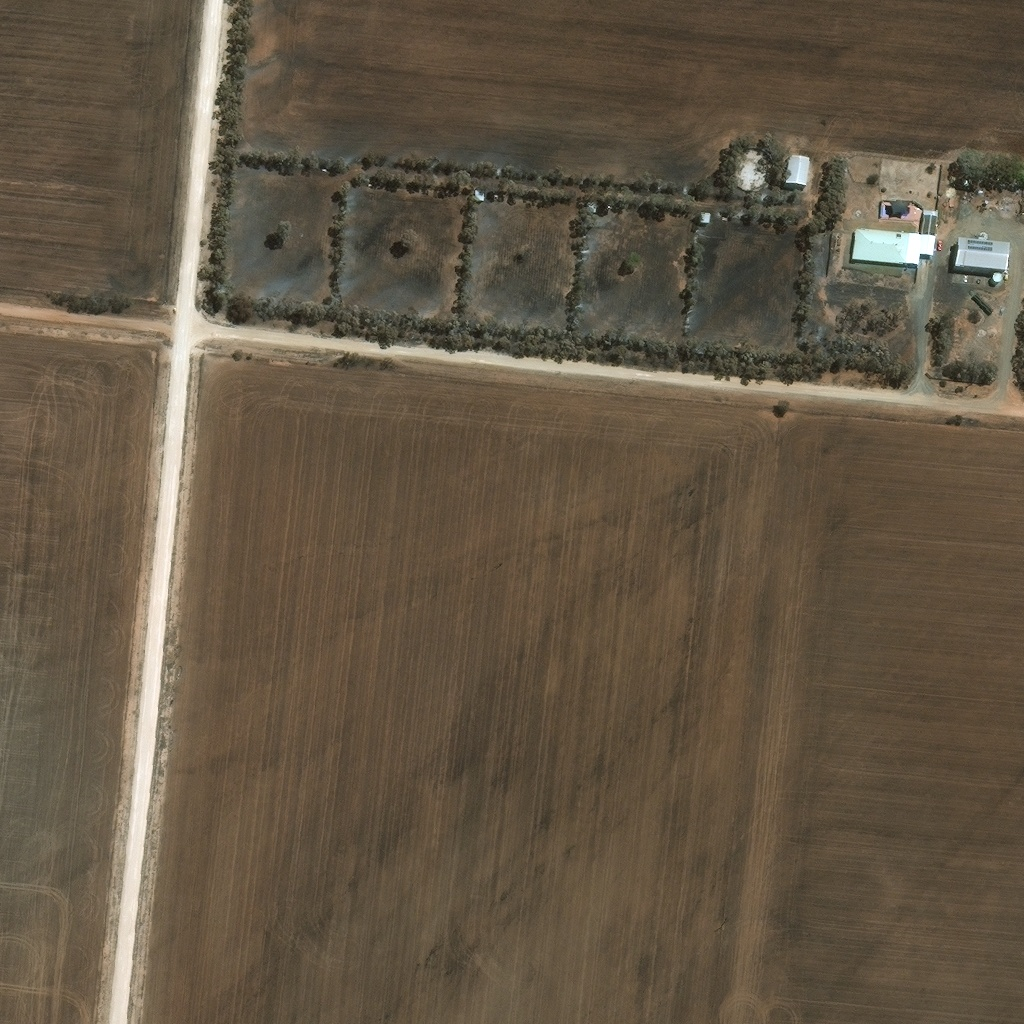0 no-damage: (851, 206, 939, 266), (954, 239, 1009, 273), (784, 153, 811, 187), (474, 188, 486, 200), (991, 272, 1002, 282), (699, 210, 710, 220), (586, 200, 596, 210)
3 destroyed: (973, 190, 989, 198)
